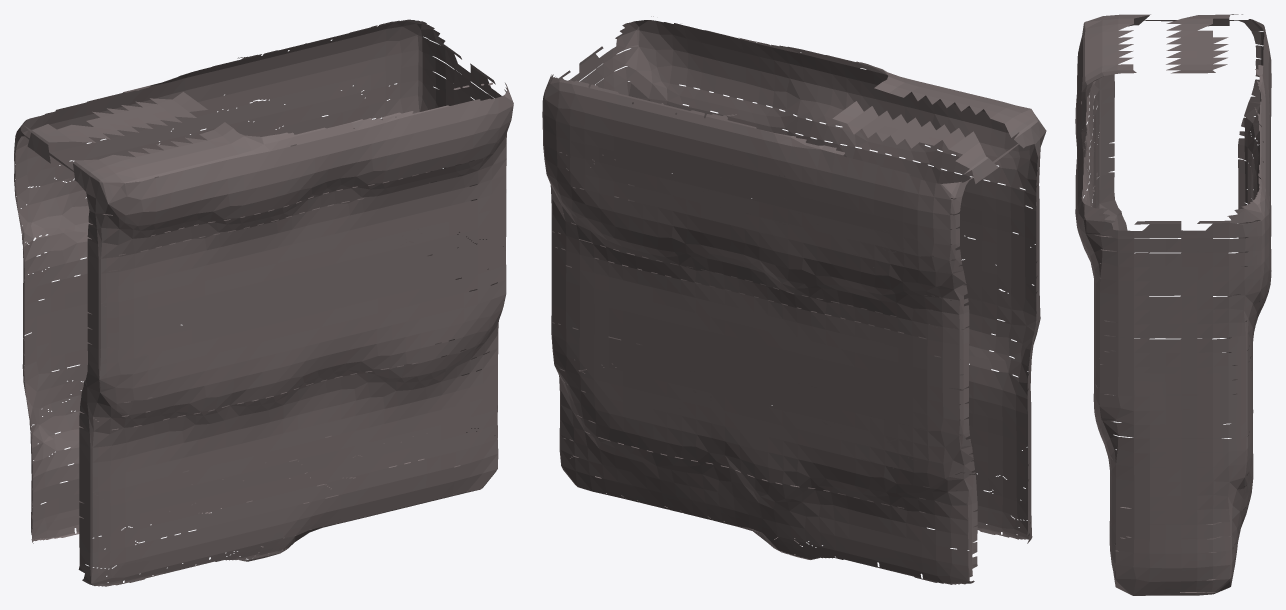
The picture shows the model from 3 angles, left to right: view 1: azimuth 30°, elevation 25°; view 2: azimuth 150°, elevation 25°; view 3: azimuth 270°, elevation 25°; orthographic projection. The views are drawn at different scales.
Parts seen in each view (by area): view 1: reconstruction; view 2: reconstruction; view 3: reconstruction.
Boxes of the visible parts, box(x1,y1,x2,y2) form: reconstruction: box(14, 19, 513, 586); reconstruction: box(542, 16, 1046, 584); reconstruction: box(1075, 14, 1271, 595).
Size of the model in its own units: 0.9673 by 1 by 0.4082.
1 material, 1 textured.
